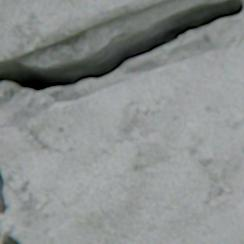brick: (0, 0, 171, 61)
broken_brick: (0, 40, 243, 243)
crack: (0, 0, 243, 91), (0, 168, 8, 213), (4, 234, 22, 243)
